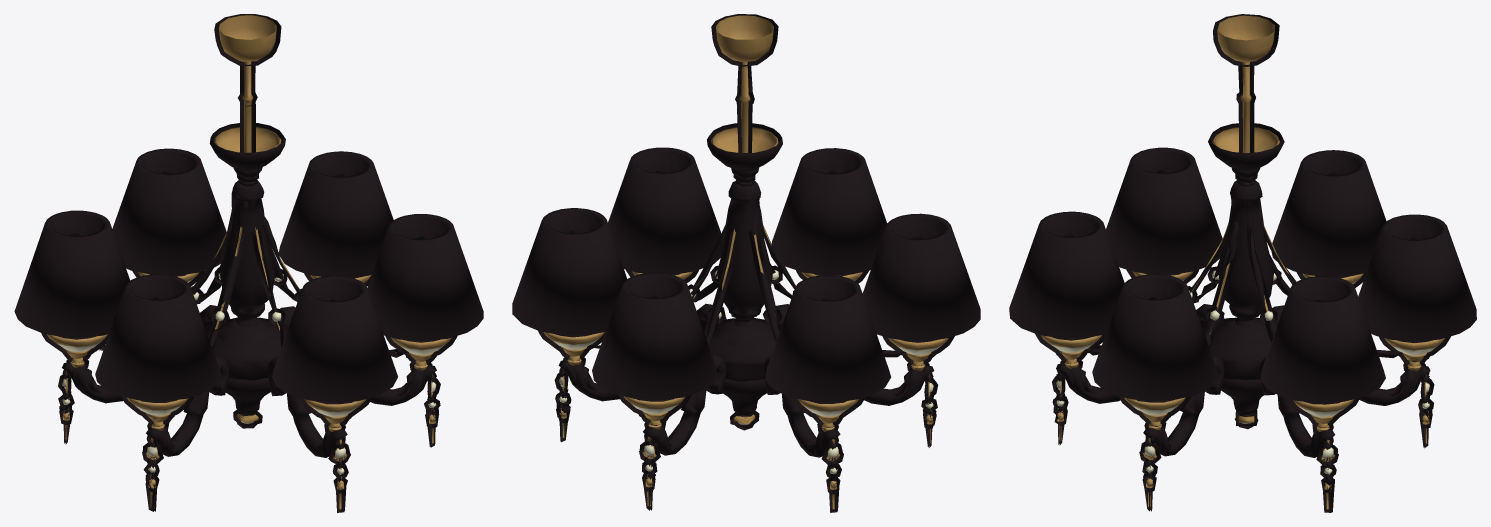
Rendered from SM_Int_ChandelierB.fbx.
The picture shows the model from 3 angles, left to right: view 1: azimuth 30°, elevation 25°; view 2: azimuth 150°, elevation 25°; view 3: azimuth 270°, elevation 25°; orthographic projection.
Visible parts, largest first — view 1: SM_Int_ChandelierB; view 2: SM_Int_ChandelierB; view 3: SM_Int_ChandelierB.
Boxes of the visible parts, x1,y1,x2,y2 form: SM_Int_ChandelierB: [14, 14, 483, 512]; SM_Int_ChandelierB: [512, 14, 980, 512]; SM_Int_ChandelierB: [1009, 14, 1476, 512].
Size of the model in its own units: 0.7535 by 0.8051 by 0.8202.
